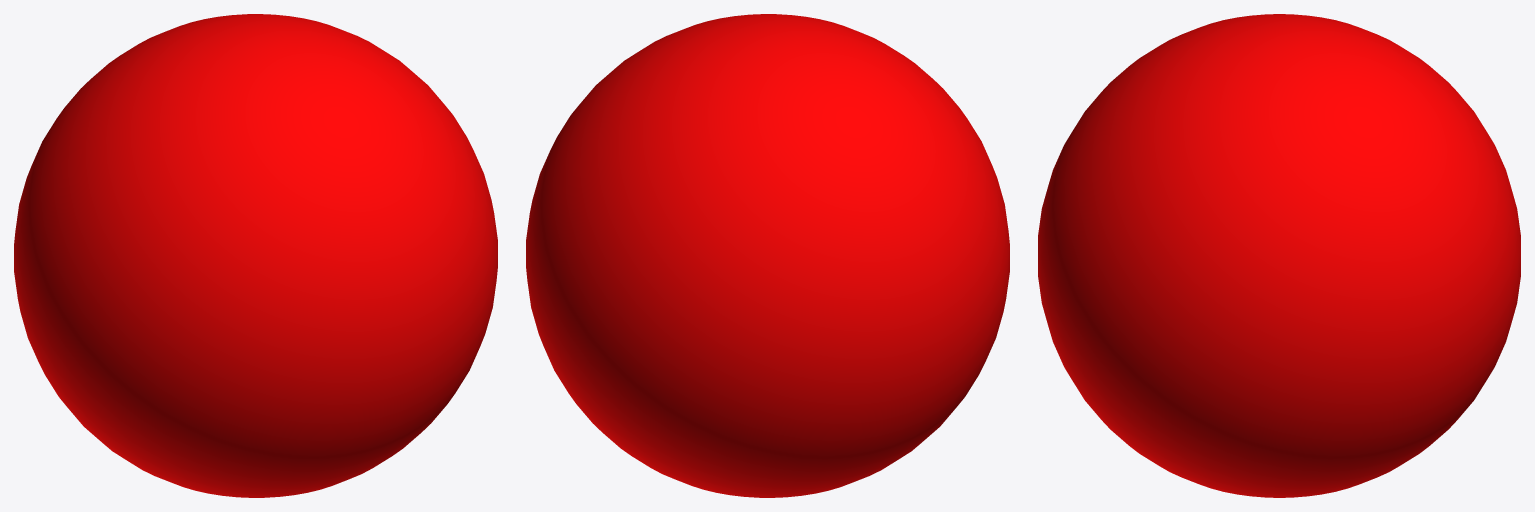
The model's file is rudolfsNose.gltf.
The picture shows the model from 3 angles, left to right: view 1: azimuth 30°, elevation 25°; view 2: azimuth 150°, elevation 25°; view 3: azimuth 270°, elevation 25°; orthographic projection.
Visible parts, largest first — view 1: Sphere; view 2: Sphere; view 3: Sphere.
Boxes of the visible parts, x1=… form: Sphere: x1=14, y1=14, x2=497, y2=497; Sphere: x1=526, y1=14, x2=1009, y2=497; Sphere: x1=1038, y1=14, x2=1520, y2=497.
Bounding box in the file's own units: 3.99 × 4 × 3.98.
